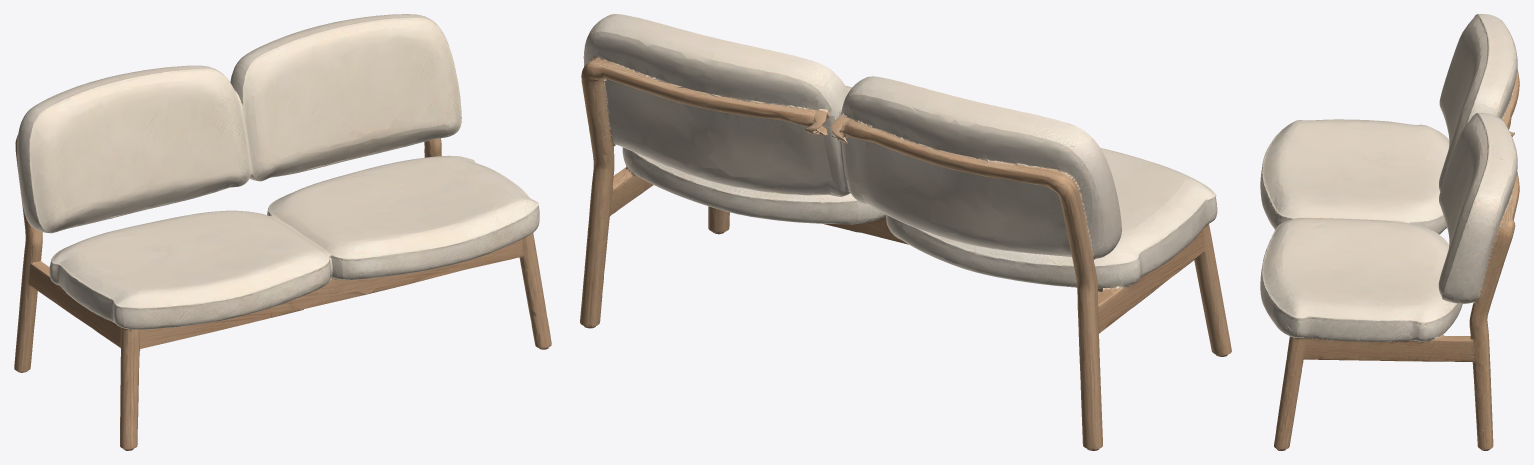
The model's file is sofa.glb.
3 renders of one model, left to right at view 1: azimuth 30°, elevation 25°; view 2: azimuth 150°, elevation 25°; view 3: azimuth 270°, elevation 25°, orthographic. The views are drawn at different scales.
Bounding box in the file's own units: 1.9 × 1.12 × 1.03.
1 material, 1 textured.
